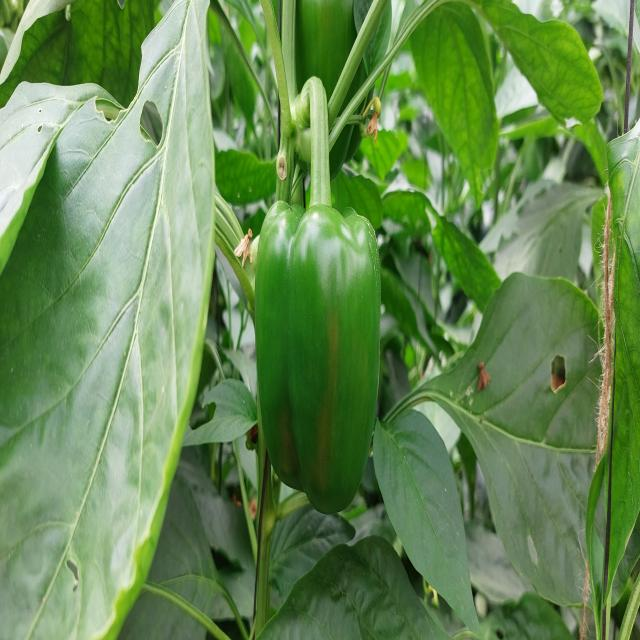Green--Not-ready-to-harvest: (252, 202, 382, 530), (278, 0, 397, 174)
